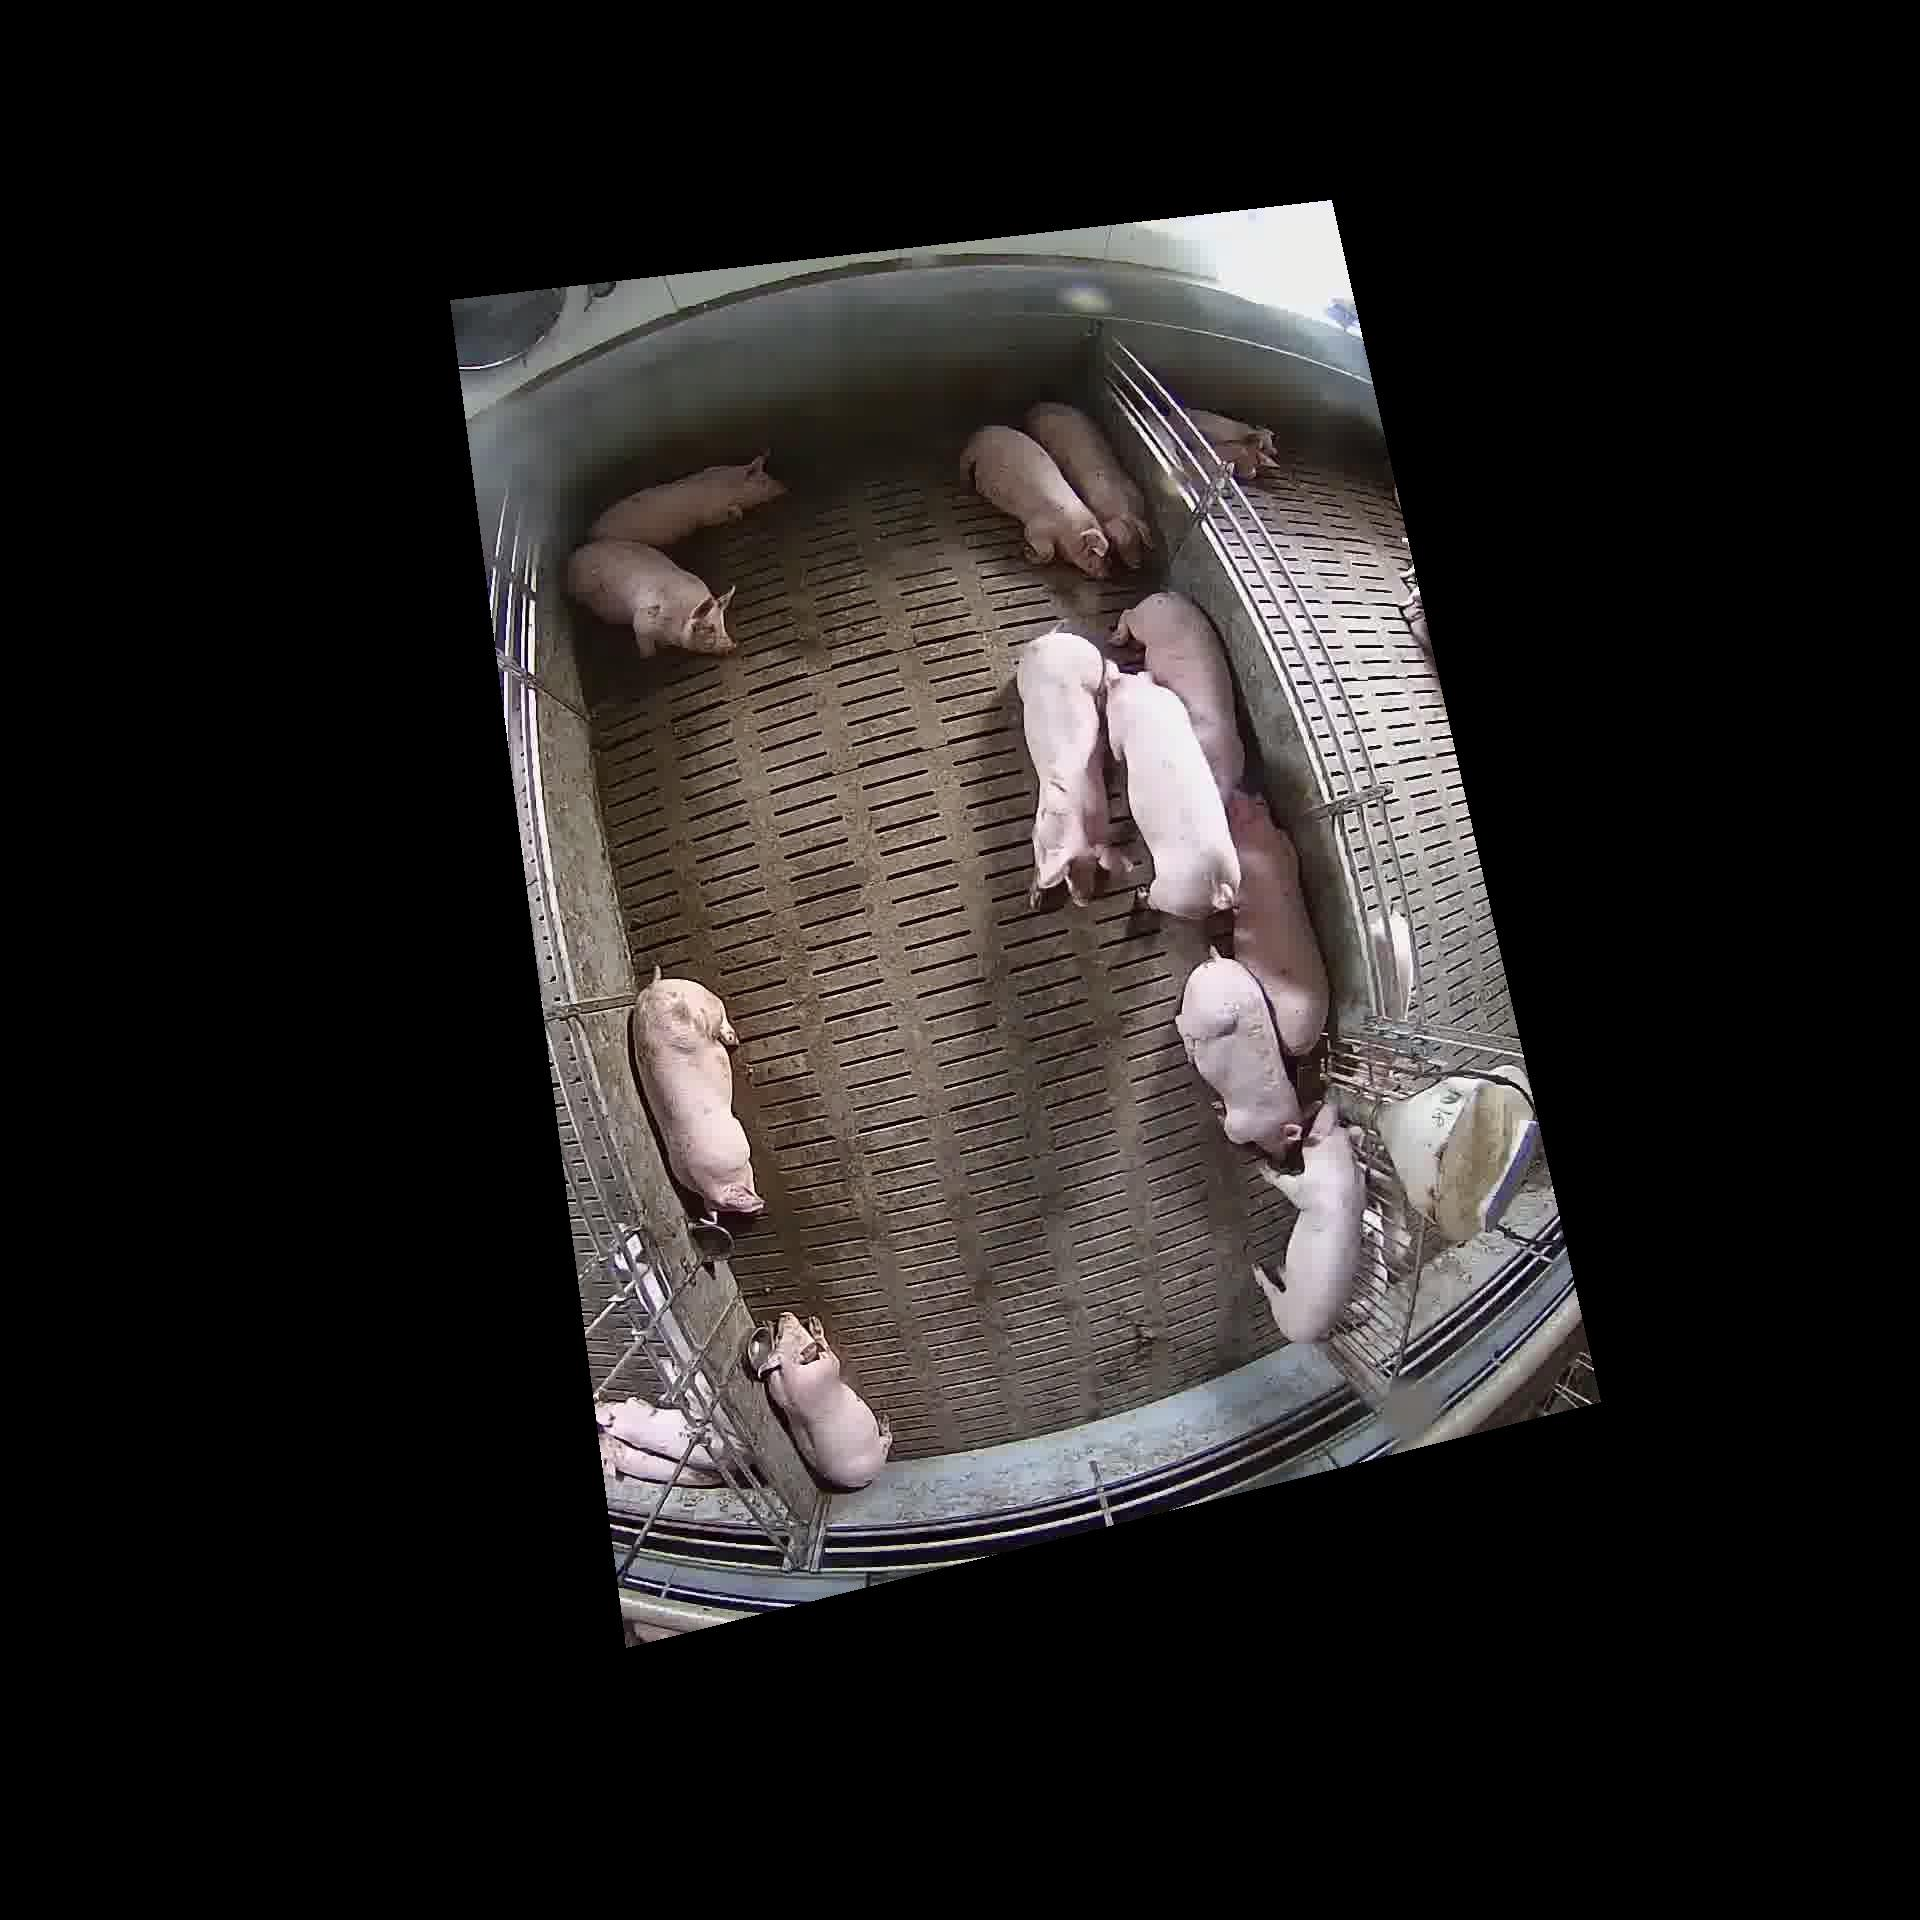pig: (1106, 658, 1238, 918), (629, 974, 760, 1217), (1016, 628, 1115, 904), (1111, 591, 1241, 796), (1255, 1109, 1366, 1340), (1233, 793, 1326, 1051), (1176, 955, 1298, 1152), (758, 1312, 890, 1486), (960, 425, 1106, 573), (1027, 403, 1148, 564), (564, 540, 731, 652), (587, 450, 782, 543)
